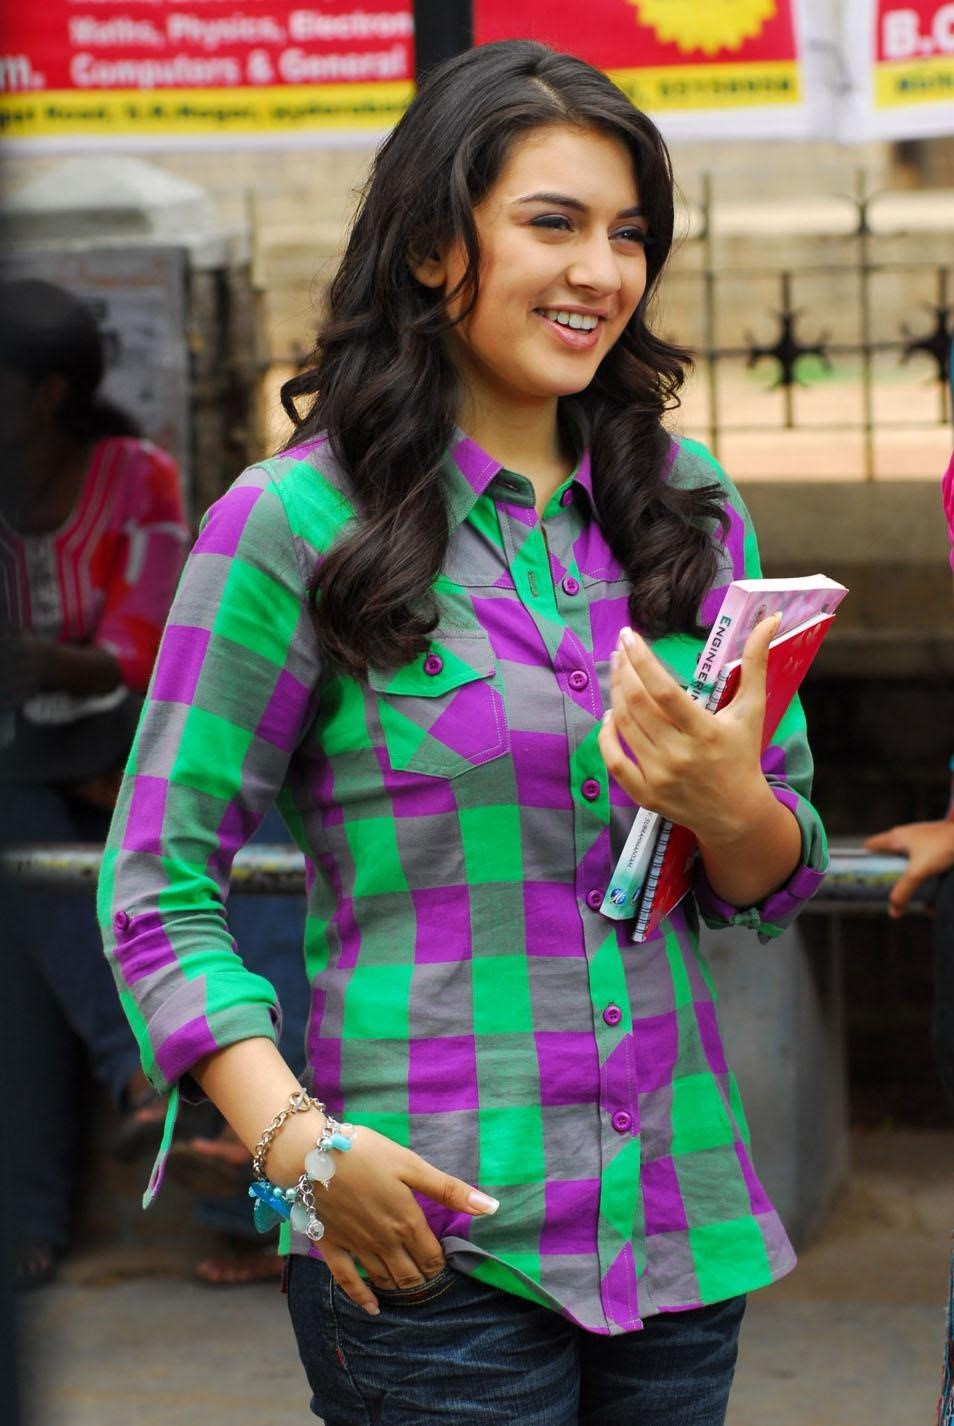face_no_mask: (361, 46, 650, 407)
